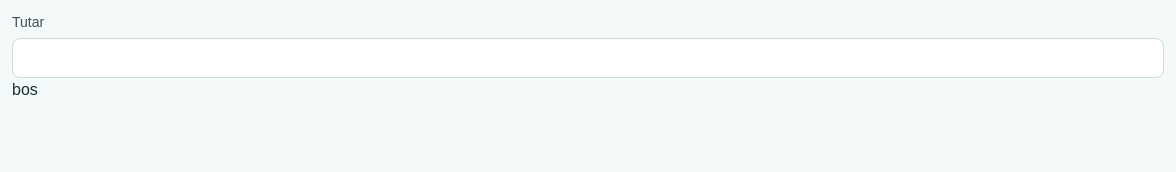
tutar girişi › tek seferde yapıştırılan "1.500" binlik sayılır
Type "1.500" into the field labelled "Tutar" at (588, 58), box [12,38,1164,78]
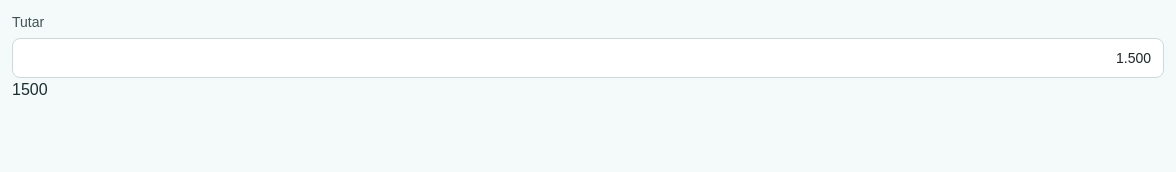
Expected: the text with test id "ham" reads "1500", [12,81,48,98]
